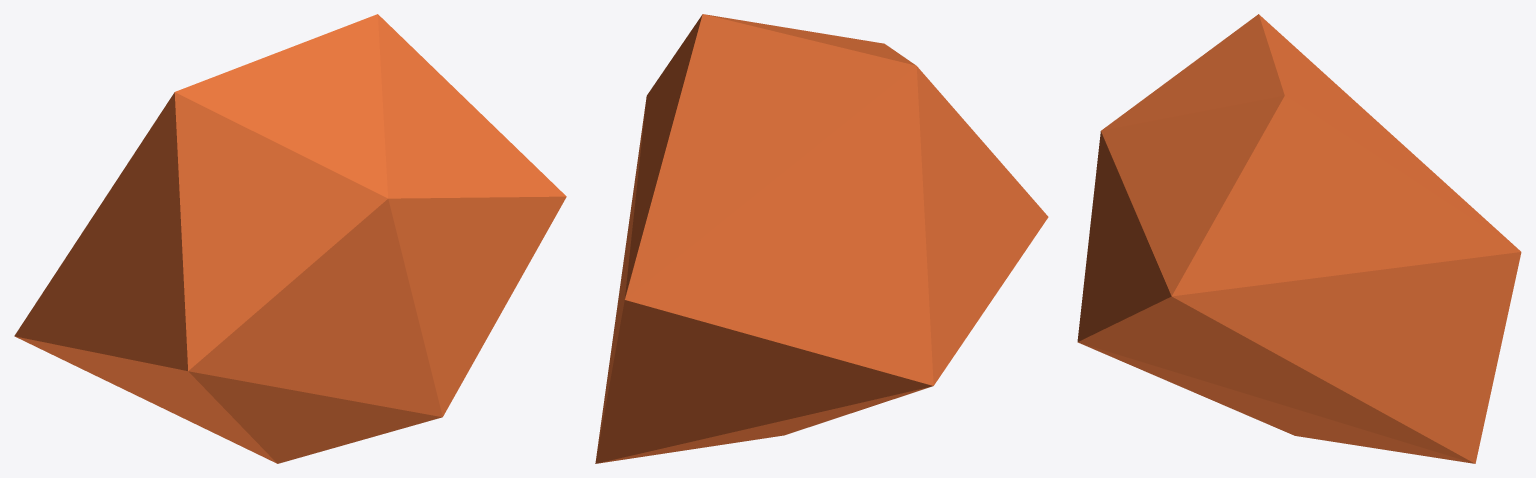
Rendered from SM_Copper.fbx.
The picture shows the model from 3 angles, left to right: view 1: azimuth 30°, elevation 25°; view 2: azimuth 150°, elevation 25°; view 3: azimuth 270°, elevation 25°; orthographic projection. The views are drawn at different scales.
Visible parts, largest first — view 1: Icosphere.007; view 2: Icosphere.007; view 3: Icosphere.007.
Boxes of the visible parts, x1,y1,x2,y2 form: Icosphere.007: [14, 14, 566, 463]; Icosphere.007: [595, 14, 1048, 463]; Icosphere.007: [1077, 14, 1521, 463].
Size of the model in its own units: 78.59 by 74.87 by 79.09.
